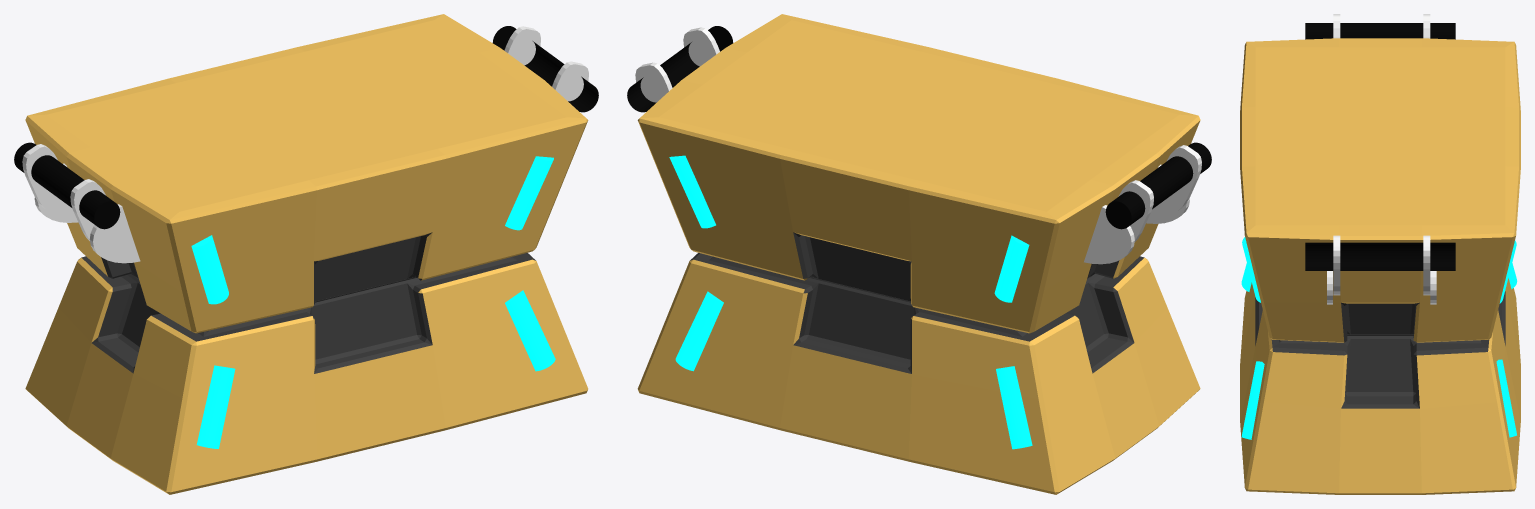
File: CHEST WAGE eka.fbx
The picture shows the model from 3 angles, left to right: view 1: azimuth 30°, elevation 25°; view 2: azimuth 150°, elevation 25°; view 3: azimuth 270°, elevation 25°; orthographic projection. The views are drawn at different scales.
Parts seen in each view (by area): view 1: Cube; view 2: Cube; view 3: Cube.
Boxes of the visible parts, box(x1,y1,x2,y2) form: Cube: box(14, 14, 598, 494); Cube: box(627, 14, 1211, 494); Cube: box(1240, 14, 1520, 494).
Size of the model in its own units: 94.44 by 50.47 by 47.43.
